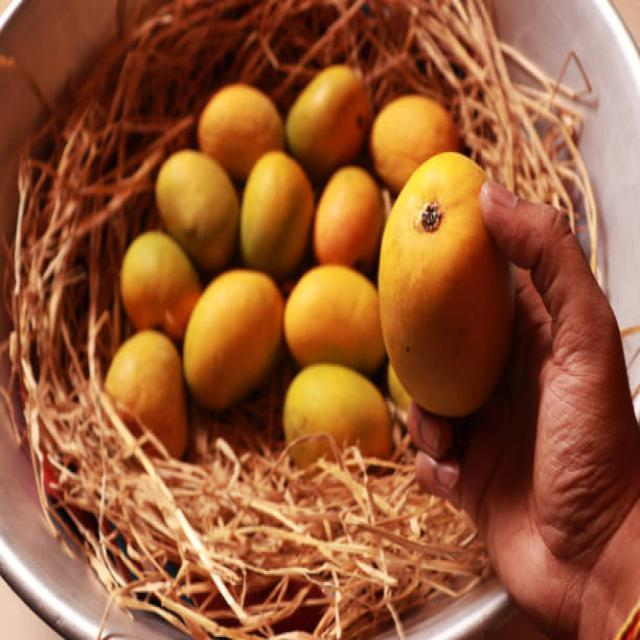mango: (379, 152, 515, 417), (184, 270, 284, 410), (282, 364, 392, 468), (285, 264, 385, 372), (105, 330, 188, 457), (155, 150, 240, 271), (285, 66, 370, 179), (240, 152, 314, 278), (121, 231, 201, 340), (370, 96, 459, 190), (198, 86, 284, 179), (315, 167, 382, 269)
